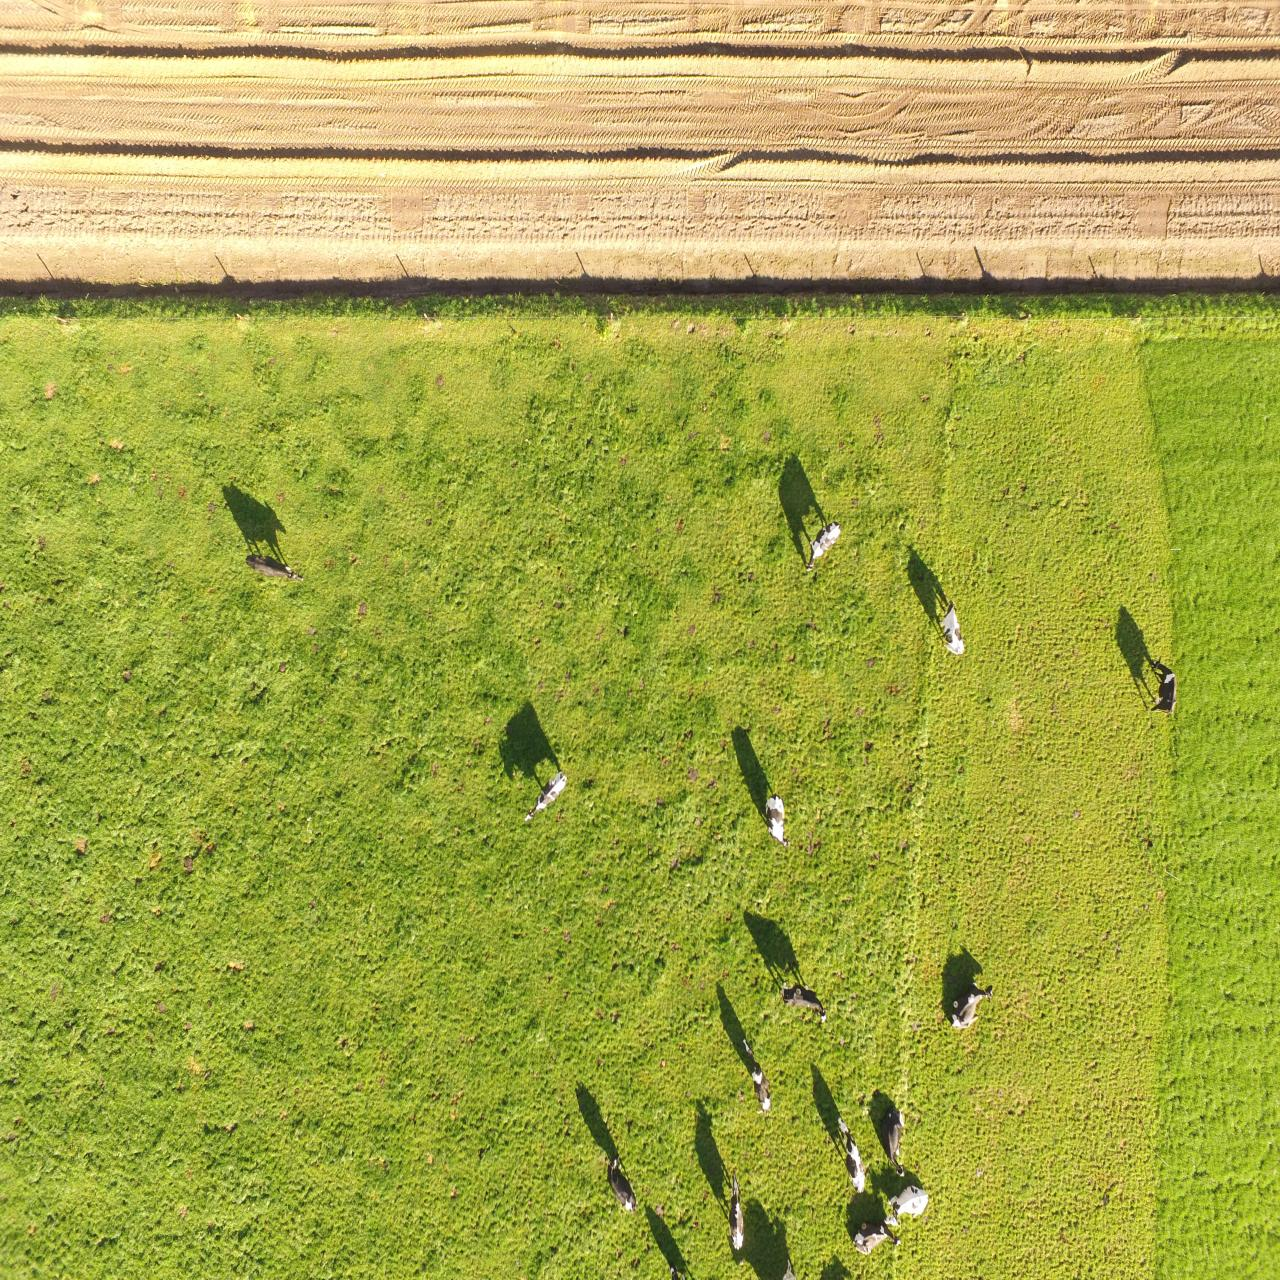cow: (736, 1037, 775, 1115), (829, 1114, 866, 1190), (522, 769, 570, 825), (839, 1218, 904, 1259), (799, 517, 846, 572), (932, 599, 971, 663), (1149, 659, 1184, 729), (720, 1170, 750, 1251), (877, 1104, 911, 1176), (945, 981, 992, 1030), (239, 552, 306, 586), (778, 980, 828, 1024), (755, 788, 790, 845), (605, 1162, 636, 1217), (891, 1185, 930, 1224)
